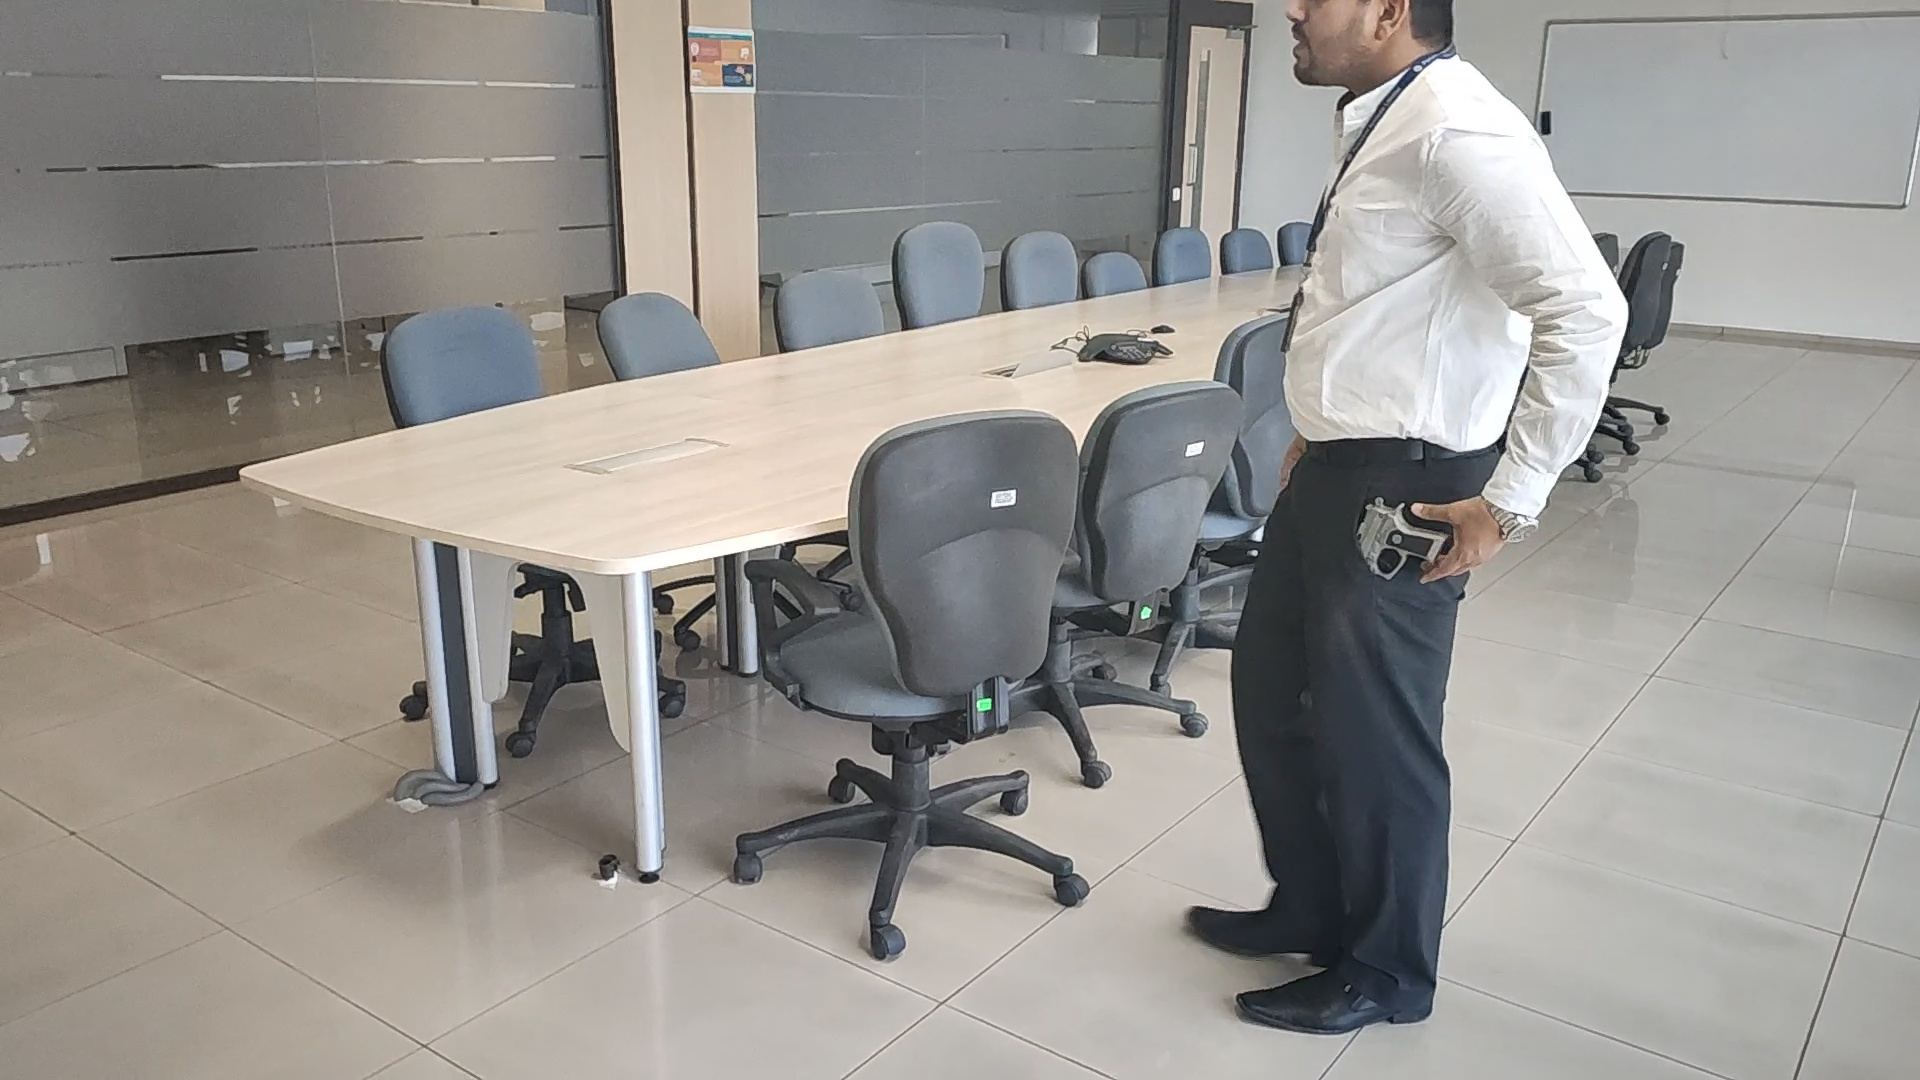gun: (1348, 495, 1449, 576)
